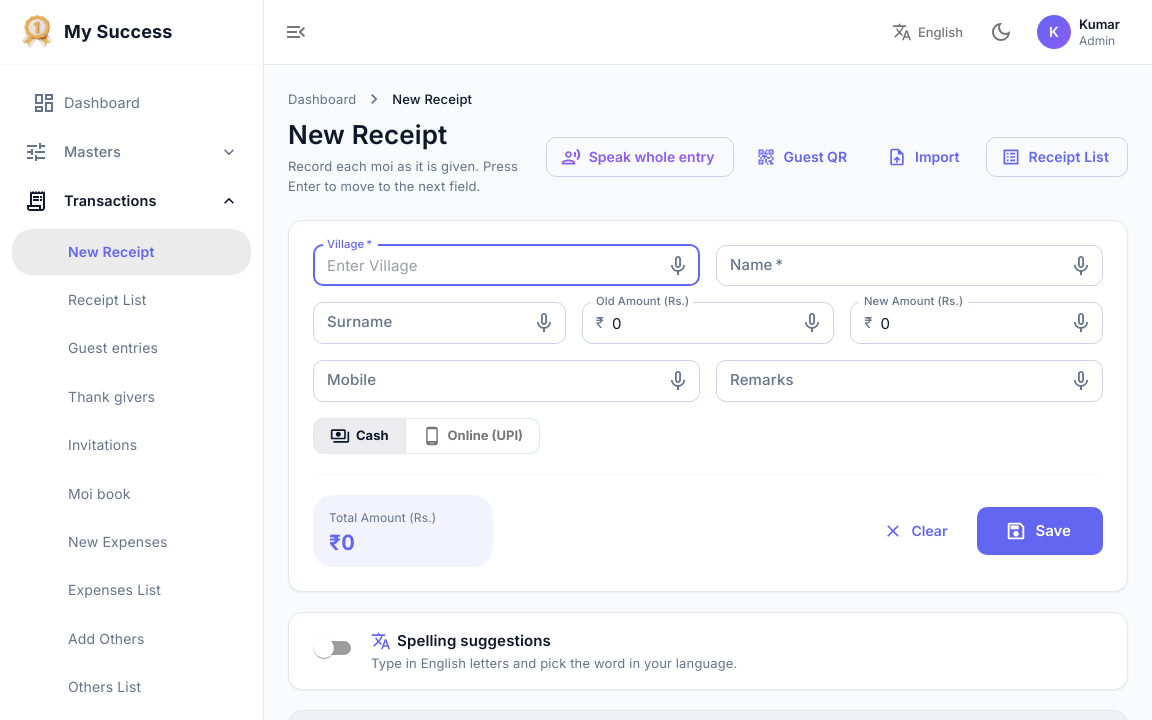
Scenario: New receipt › saves the receipt for the current function and clears the form for the next one
The image size is (1152, 720).
Type "Madurai" into the field labelled "Village *" at (482, 266), box [313,245,650,286]
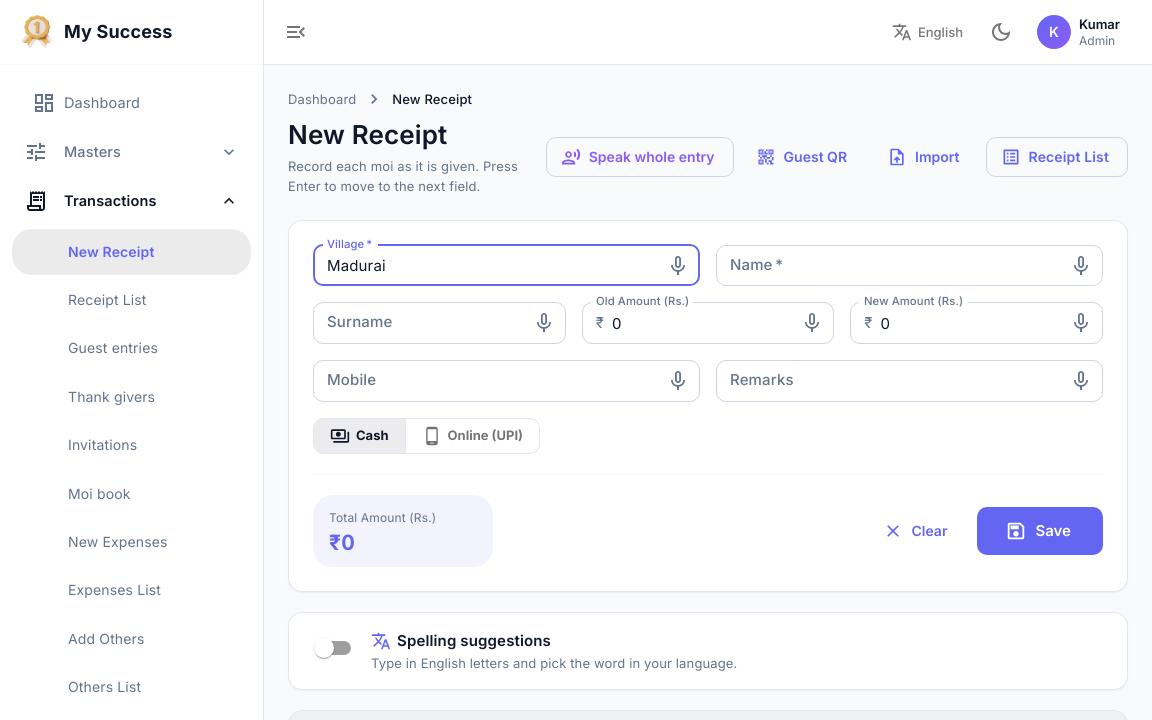
Type "Ravi" into the field labelled "Name *" at (884, 266), box [716,245,1053,286]
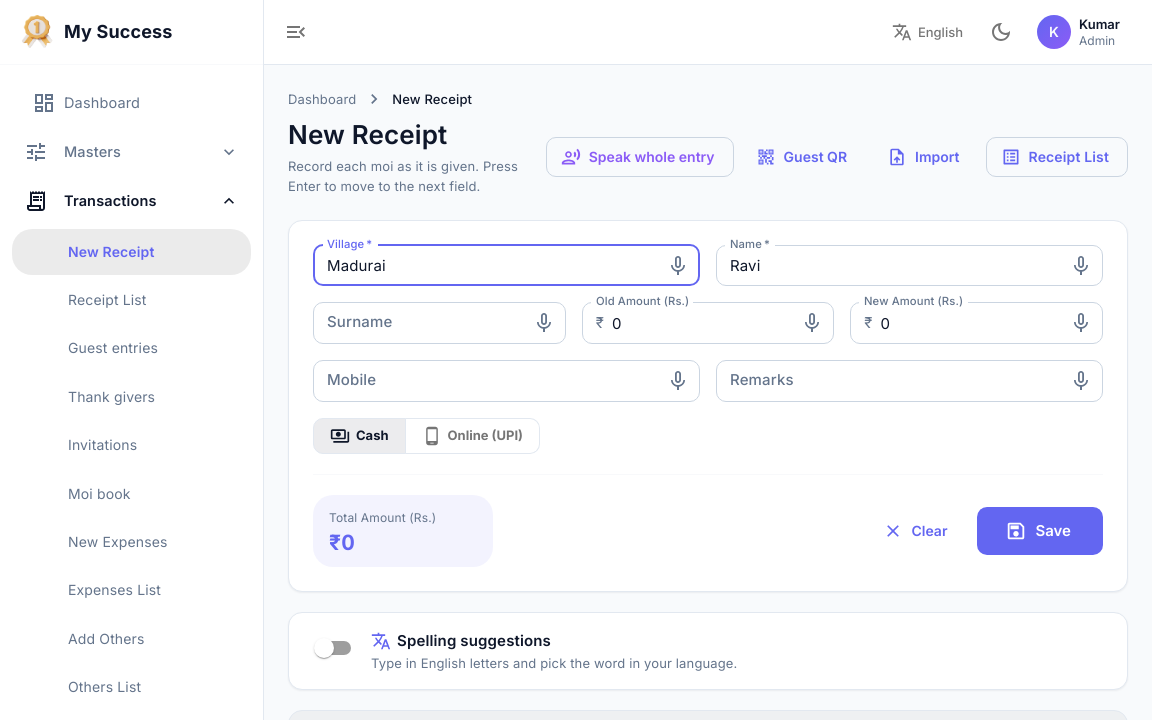
Replace the text in the number field labelled "New Amount (Rs.)" with "501" at (967, 323), box [881,302,1053,344]
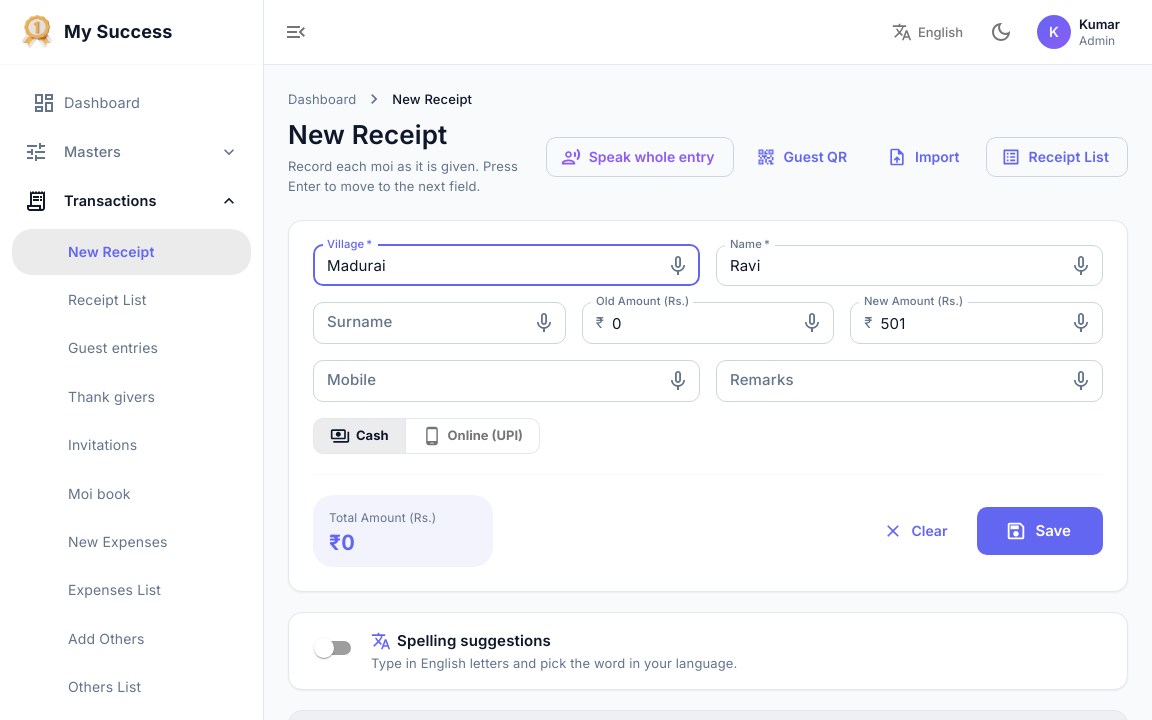
Click the button "Save" at (1040, 531), box [978,507,1103,555]
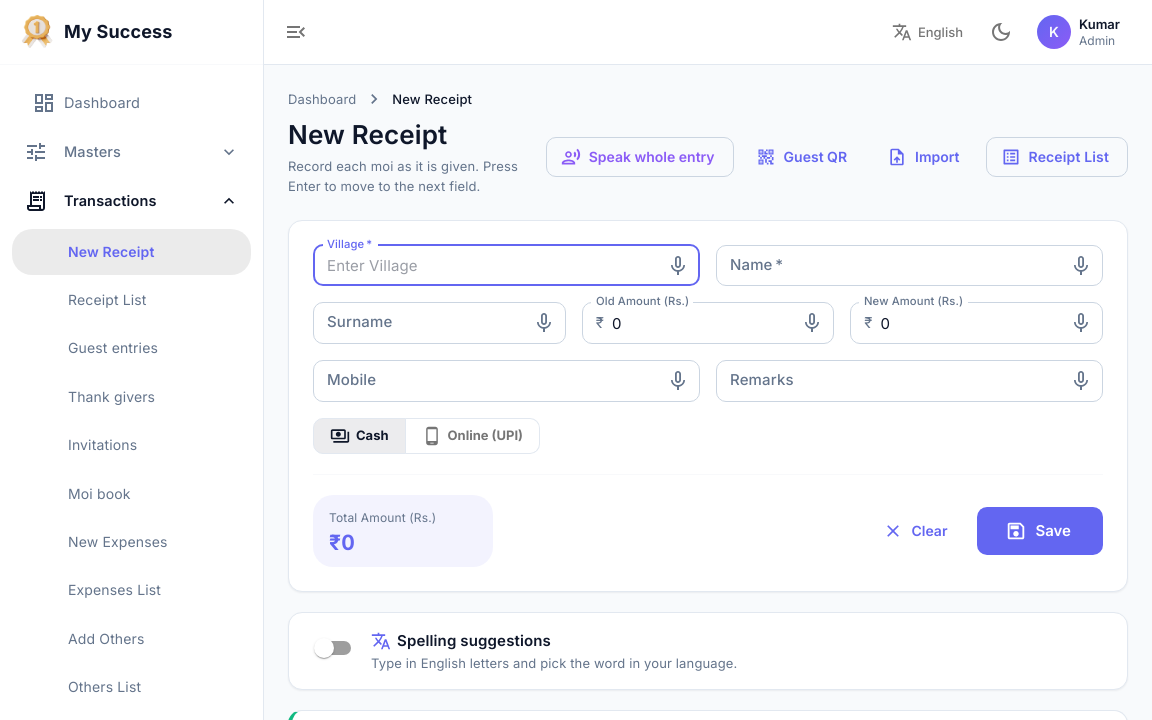
Expected: the text "₹501" is shown, [329,530,355,555]
Expected: the field labelled "Village *" is empty, [313,245,650,286]
